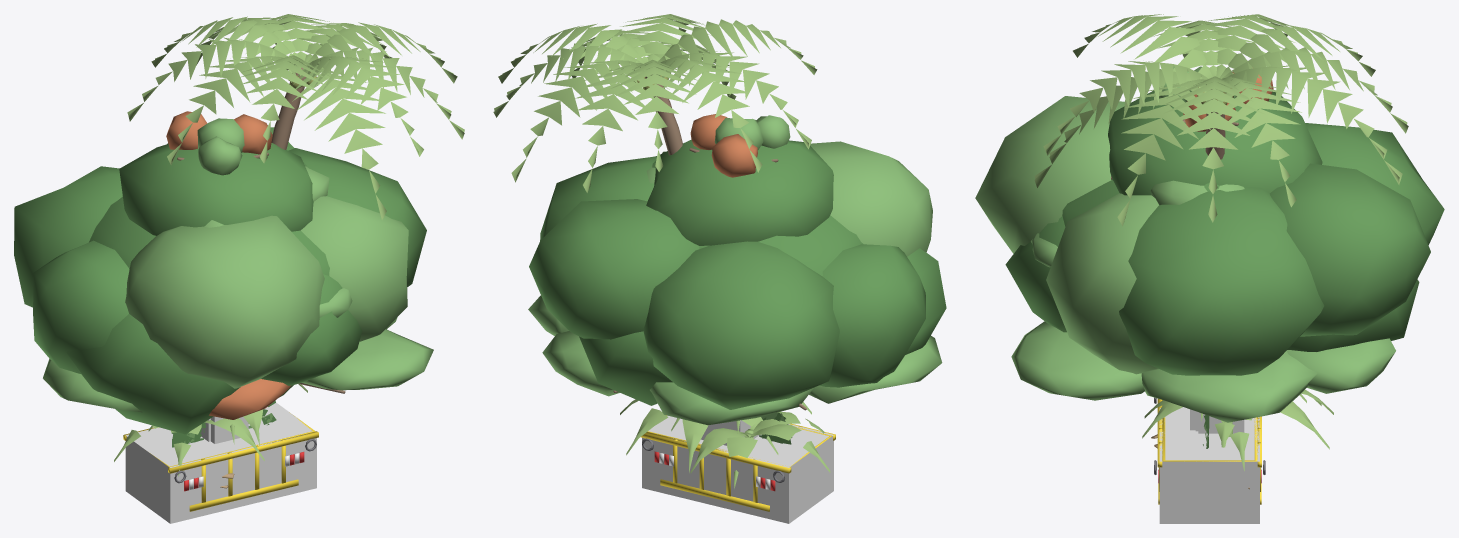
The model's file is vegetation.glb.
3 renders of one model, left to right at view 1: azimuth 30°, elevation 25°; view 2: azimuth 150°, elevation 25°; view 3: azimuth 270°, elevation 25°, orthographic. The views are drawn at different scales.
Visible parts, largest first — view 1: Arv_mangueira, Arv_coqueiro, Arv_amendoeira, Col_Cacamba_0, Cacamba, Bananeira, Trepadeira; view 2: Arv_mangueira, Arv_coqueiro, Arv_amendoeira, Col_Cacamba_0, Bananeira, Cacamba; view 3: Arv_mangueira, Arv_coqueiro, Arv_amendoeira, Col_Cacamba_0, Bananeira, Cacamba.
Part boxes in pixels (box(x1,y1,x2,y2)): Arv_mangueira: box(14, 127, 426, 434); Arv_coqueiro: box(127, 14, 464, 219); Arv_amendoeira: box(43, 111, 433, 419); Col_Cacamba_0: box(125, 402, 316, 523); Cacamba: box(123, 412, 318, 511); Bananeira: box(114, 384, 307, 476); Trepadeira: box(171, 400, 276, 447); Arv_mangueira: box(529, 139, 946, 409); Arv_coqueiro: box(493, 14, 817, 192); Arv_amendoeira: box(528, 114, 942, 425); Col_Cacamba_0: box(642, 415, 833, 523); Bananeira: box(620, 399, 830, 488); Cacamba: box(640, 415, 835, 511); Arv_mangueira: box(975, 90, 1444, 375); Arv_coqueiro: box(1034, 14, 1408, 226); Arv_amendoeira: box(1011, 66, 1395, 422); Col_Cacamba_0: box(1159, 407, 1259, 523); Bananeira: box(1142, 389, 1333, 470); Cacamba: box(1151, 397, 1265, 504).
Size of what is drawn, in the model's own units: 9.32 by 9.55 by 8.19.
